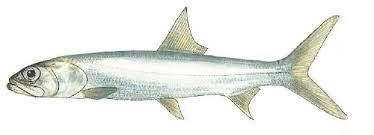Tenpounder: (8, 5, 348, 121)
